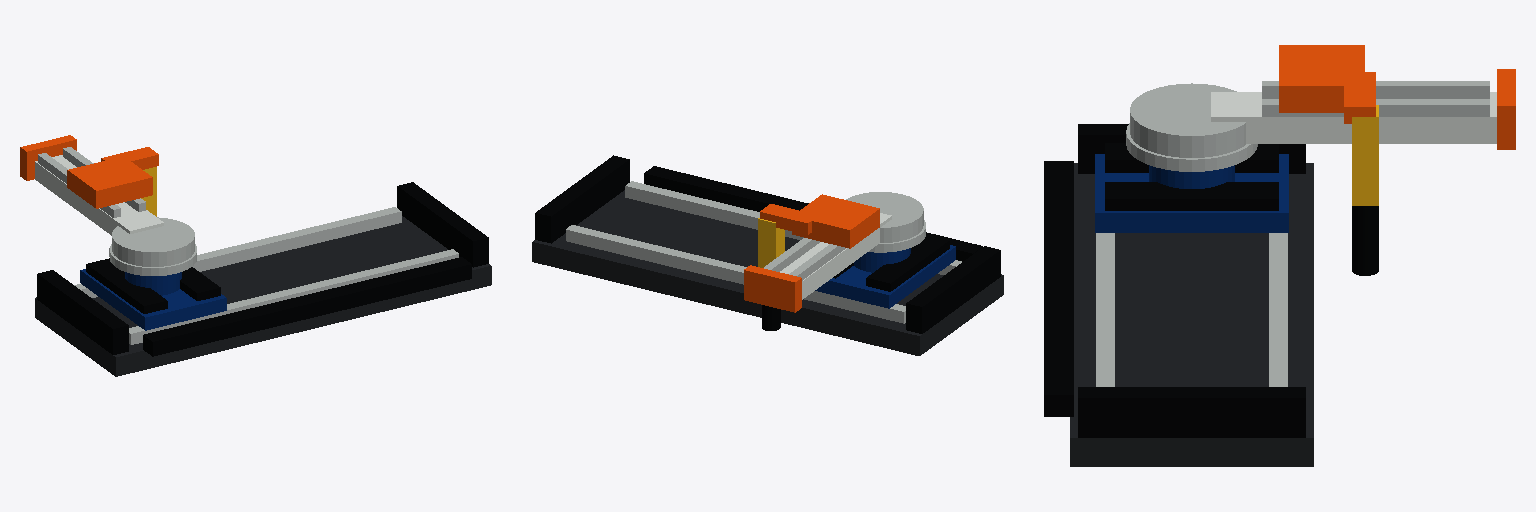
URDF robot description (cartesian_fed_linkage):
<robot name="cartesian_fed_linkage">
  <link name="base">
    <visual name="machine_bed">
      <origin xyz="0 0 0.03" rpy="0 0 0" />
      <geometry>
        <box size="1.2 0.45 0.06" />
        </geometry>
      <material name="cast_iron">
        <color rgba="0.16 0.17 0.18 1" />
        </material>
      </visual>
    <visual name="rail_0">
      <origin xyz="0 0.16 0.0775" rpy="0 0 0" />
      <geometry>
        <box size="1.05 0.035 0.035" />
        </geometry>
      <material name="ground_steel">
        <color rgba="0.72 0.74 0.73 1" />
        </material>
      </visual>
    <visual name="rail_1">
      <origin xyz="0 -0.16 0.0775" rpy="0 0 0" />
      <geometry>
        <box size="1.05 0.035 0.035" />
        </geometry>
      <material name="ground_steel">
        <color rgba="0.72 0.74 0.73 1" />
        </material>
      </visual>
    <visual name="end_stop_0">
      <origin xyz="-0.575 0 0.1" rpy="0 0 0" />
      <geometry>
        <box size="0.05 0.42 0.08" />
        </geometry>
      <material name="black_oxide">
        <color rgba="0.04 0.045 0.05 1" />
        </material>
      </visual>
    <visual name="end_stop_1">
      <origin xyz="0.575 0 0.1" rpy="0 0 0" />
      <geometry>
        <box size="0.05 0.42 0.08" />
        </geometry>
      <material name="black_oxide">
        <color rgba="0.04 0.045 0.05 1" />
        </material>
      </visual>
    <visual name="cable_tray">
      <origin xyz="0 -0.245 0.0825" rpy="0 0 0" />
      <geometry>
        <box size="1.02 0.055 0.045" />
        </geometry>
      <material name="black_oxide">
        <color rgba="0.04 0.045 0.05 1" />
        </material>
      </visual>
    <collision name="machine_bed">
      <origin xyz="0 0 0.03" rpy="0 0 0" />
      <geometry>
        <box size="1.2 0.45 0.06" />
        </geometry>
      </collision>
    <collision name="rail_0">
      <origin xyz="0 0.16 0.0775" rpy="0 0 0" />
      <geometry>
        <box size="1.05 0.035 0.035" />
        </geometry>
      </collision>
    <collision name="rail_1">
      <origin xyz="0 -0.16 0.0775" rpy="0 0 0" />
      <geometry>
        <box size="1.05 0.035 0.035" />
        </geometry>
      </collision>
    <collision name="end_stop_0">
      <origin xyz="-0.575 0 0.1" rpy="0 0 0" />
      <geometry>
        <box size="0.05 0.42 0.08" />
        </geometry>
      </collision>
    <collision name="end_stop_1">
      <origin xyz="0.575 0 0.1" rpy="0 0 0" />
      <geometry>
        <box size="0.05 0.42 0.08" />
        </geometry>
      </collision>
    <collision name="cable_tray">
      <origin xyz="0 -0.245 0.0825" rpy="0 0 0" />
      <geometry>
        <box size="1.02 0.055 0.045" />
        </geometry>
      </collision>
    </link>
  <link name="carriage">
    <visual name="saddle_plate">
      <origin xyz="0 0 0.02" rpy="0 0 0" />
      <geometry>
        <box size="0.26 0.36 0.04" />
        </geometry>
      <material name="carriage_blue">
        <color rgba="0.05 0.2 0.44 1" />
        </material>
      </visual>
    <visual name="bearing_pad_0">
      <origin xyz="-0.085 0 0.0525" rpy="0 0 0" />
      <geometry>
        <box size="0.075 0.32 0.025" />
        </geometry>
      <material name="black_oxide">
        <color rgba="0.04 0.045 0.05 1" />
        </material>
      </visual>
    <visual name="bearing_pad_1">
      <origin xyz="0.085 0 0.0525" rpy="0 0 0" />
      <geometry>
        <box size="0.075 0.32 0.025" />
        </geometry>
      <material name="black_oxide">
        <color rgba="0.04 0.045 0.05 1" />
        </material>
      </visual>
    <visual name="pivot_pedestal">
      <origin xyz="0 0 0.08" rpy="0 0 0" />
      <geometry>
        <cylinder radius="0.08" length="0.08" />
        </geometry>
      <material name="carriage_blue">
        <color rgba="0.05 0.2 0.44 1" />
        </material>
      </visual>
    <visual name="lower_bearing">
      <origin xyz="0 0 0.1325" rpy="0 0 0" />
      <geometry>
        <cylinder radius="0.122" length="0.025" />
        </geometry>
      <material name="ground_steel">
        <color rgba="0.72 0.74 0.73 1" />
        </material>
      </visual>
    <collision name="saddle_plate">
      <origin xyz="0 0 0.02" rpy="0 0 0" />
      <geometry>
        <box size="0.26 0.36 0.04" />
        </geometry>
      </collision>
    <collision name="bearing_pad_0">
      <origin xyz="-0.085 0 0.0525" rpy="0 0 0" />
      <geometry>
        <box size="0.075 0.32 0.025" />
        </geometry>
      </collision>
    <collision name="bearing_pad_1">
      <origin xyz="0.085 0 0.0525" rpy="0 0 0" />
      <geometry>
        <box size="0.075 0.32 0.025" />
        </geometry>
      </collision>
    <collision name="pivot_pedestal">
      <origin xyz="0 0 0.08" rpy="0 0 0" />
      <geometry>
        <cylinder radius="0.08" length="0.08" />
        </geometry>
      </collision>
    <collision name="lower_bearing">
      <origin xyz="0 0 0.1325" rpy="0 0 0" />
      <geometry>
        <cylinder radius="0.122" length="0.025" />
        </geometry>
      </collision>
    </link>
  <link name="rotary_arm">
    <visual name="upper_hub">
      <origin xyz="0 0 0.0225" rpy="0 0 0" />
      <geometry>
        <cylinder radius="0.115" length="0.045" />
        </geometry>
      <material name="ground_steel">
        <color rgba="0.72 0.74 0.73 1" />
        </material>
      </visual>
    <visual name="arm_beam">
      <origin xyz="0 0.315 0.0275" rpy="0 0 0" />
      <geometry>
        <box size="0.11 0.56 0.055" />
        </geometry>
      <material name="powder_coat_white">
        <color rgba="0.86 0.88 0.86 1" />
        </material>
      </visual>
    <visual name="tool_rail_0">
      <origin xyz="-0.04 0.34 0.0675" rpy="0 0 0" />
      <geometry>
        <box size="0.025 0.42 0.025" />
        </geometry>
      <material name="ground_steel">
        <color rgba="0.72 0.74 0.73 1" />
        </material>
      </visual>
    <visual name="tool_rail_1">
      <origin xyz="0.04 0.34 0.0675" rpy="0 0 0" />
      <geometry>
        <box size="0.025 0.42 0.025" />
        </geometry>
      <material name="ground_steel">
        <color rgba="0.72 0.74 0.73 1" />
        </material>
      </visual>
    <visual name="distal_stop">
      <origin xyz="0 0.58 0.045" rpy="0 0 0" />
      <geometry>
        <box size="0.16 0.035 0.09" />
        </geometry>
      <material name="safety_orange">
        <color rgba="0.95 0.36 0.06 1" />
        </material>
      </visual>
    <collision name="upper_hub">
      <origin xyz="0 0 0.0225" rpy="0 0 0" />
      <geometry>
        <cylinder radius="0.115" length="0.045" />
        </geometry>
      </collision>
    <collision name="arm_beam">
      <origin xyz="0 0.315 0.0275" rpy="0 0 0" />
      <geometry>
        <box size="0.11 0.56 0.055" />
        </geometry>
      </collision>
    <collision name="tool_rail_0">
      <origin xyz="-0.04 0.34 0.0675" rpy="0 0 0" />
      <geometry>
        <box size="0.025 0.42 0.025" />
        </geometry>
      </collision>
    <collision name="tool_rail_1">
      <origin xyz="0.04 0.34 0.0675" rpy="0 0 0" />
      <geometry>
        <box size="0.025 0.42 0.025" />
        </geometry>
      </collision>
    <collision name="distal_stop">
      <origin xyz="0 0.58 0.045" rpy="0 0 0" />
      <geometry>
        <box size="0.16 0.035 0.09" />
        </geometry>
      </collision>
    </link>
  <link name="tool_slide">
    <visual name="slide_block">
      <origin xyz="0 0 0.0275" rpy="0 0 0" />
      <geometry>
        <box size="0.18 0.16 0.055" />
        </geometry>
      <material name="safety_orange">
        <color rgba="0.95 0.36 0.06 1" />
        </material>
      </visual>
    <visual name="side_outrigger">
      <origin xyz="0.105 0.07 0.0375" rpy="0 0 0" />
      <geometry>
        <box size="0.15 0.06 0.035" />
        </geometry>
      <material name="safety_orange">
        <color rgba="0.95 0.36 0.06 1" />
        </material>
      </visual>
    <visual name="tool_carrier">
      <origin xyz="0.155 0.08 -0.055" rpy="0 0 0" />
      <geometry>
        <box size="0.055 0.05 0.18" />
        </geometry>
      <material name="tool_yellow">
        <color rgba="0.95 0.72 0.12 1" />
        </material>
      </visual>
    <visual name="vertical_tool">
      <origin xyz="0.155 0.08 -0.19" rpy="0 0 0" />
      <geometry>
        <cylinder radius="0.025" length="0.2" />
        </geometry>
      <material name="black_oxide">
        <color rgba="0.04 0.045 0.05 1" />
        </material>
      </visual>
    <collision name="slide_block">
      <origin xyz="0 0 0.0275" rpy="0 0 0" />
      <geometry>
        <box size="0.18 0.16 0.055" />
        </geometry>
      </collision>
    <collision name="side_outrigger">
      <origin xyz="0.105 0.07 0.0375" rpy="0 0 0" />
      <geometry>
        <box size="0.15 0.06 0.035" />
        </geometry>
      </collision>
    <collision name="tool_carrier">
      <origin xyz="0.155 0.08 -0.055" rpy="0 0 0" />
      <geometry>
        <box size="0.055 0.05 0.18" />
        </geometry>
      </collision>
    <collision name="vertical_tool">
      <origin xyz="0.155 0.08 -0.19" rpy="0 0 0" />
      <geometry>
        <cylinder radius="0.025" length="0.2" />
        </geometry>
      </collision>
    </link>
  <joint name="base_to_carriage" type="prismatic">
    <origin xyz="-0.35 0 0.095" rpy="0 0 0" />
    <parent link="base" />
    <child link="carriage" />
    <axis xyz="1 0 0" />
    <limit effort="250" velocity="0.4" lower="0" upper="0.55" />
    </joint>
  <joint name="carriage_to_arm" type="revolute">
    <origin xyz="0 0 0.145" rpy="0 0 0" />
    <parent link="carriage" />
    <child link="rotary_arm" />
    <axis xyz="0 0 1" />
    <limit effort="80" velocity="1.2" lower="-2.35619" upper="2.35619" />
    </joint>
  <joint name="arm_to_tool_slide" type="prismatic">
    <origin xyz="0 0.24 0.08" rpy="0 0 0" />
    <parent link="rotary_arm" />
    <child link="tool_slide" />
    <axis xyz="0 1 0" />
    <limit effort="90" velocity="0.3" lower="0" upper="0.18" />
    </joint>
  </robot>

--- Render facts (derived) ---
The picture shows the robot from 3 angles, left to right: view 1: azimuth 30°, elevation 25°; view 2: azimuth 150°, elevation 25°; view 3: azimuth 270°, elevation 25°; orthographic projection.
Robot: cartesian_fed_linkage — 4 links, 3 joints (1 revolute, 2 prismatic); root link base; default pose: every joint at zero.
Visible links, largest first — view 1: base, rotary_arm, carriage, tool_slide; view 2: base, rotary_arm, carriage, tool_slide; view 3: base, rotary_arm, carriage, tool_slide.
Link boxes in pixels (left/top/right/bottom): base: left=35, top=182, right=491, bottom=376; rotary_arm: left=20, top=135, right=194, bottom=266; carriage: left=80, top=244, right=226, bottom=330; tool_slide: left=67, top=147, right=158, bottom=216; base: left=532, top=155, right=1003, bottom=355; rotary_arm: left=744, top=192, right=923, bottom=312; carriage: left=815, top=220, right=955, bottom=308; tool_slide: left=758, top=194, right=879, bottom=330; base: left=1044, top=124, right=1313, bottom=466; rotary_arm: left=1130, top=69, right=1515, bottom=157; carriage: left=1095, top=123, right=1288, bottom=232; tool_slide: left=1279, top=45, right=1378, bottom=275.
Size in the robot's own frame: 1.2 by 0.87 by 0.375 metres.
Geometry: primitives only (box / cylinder / sphere), no mesh files.
